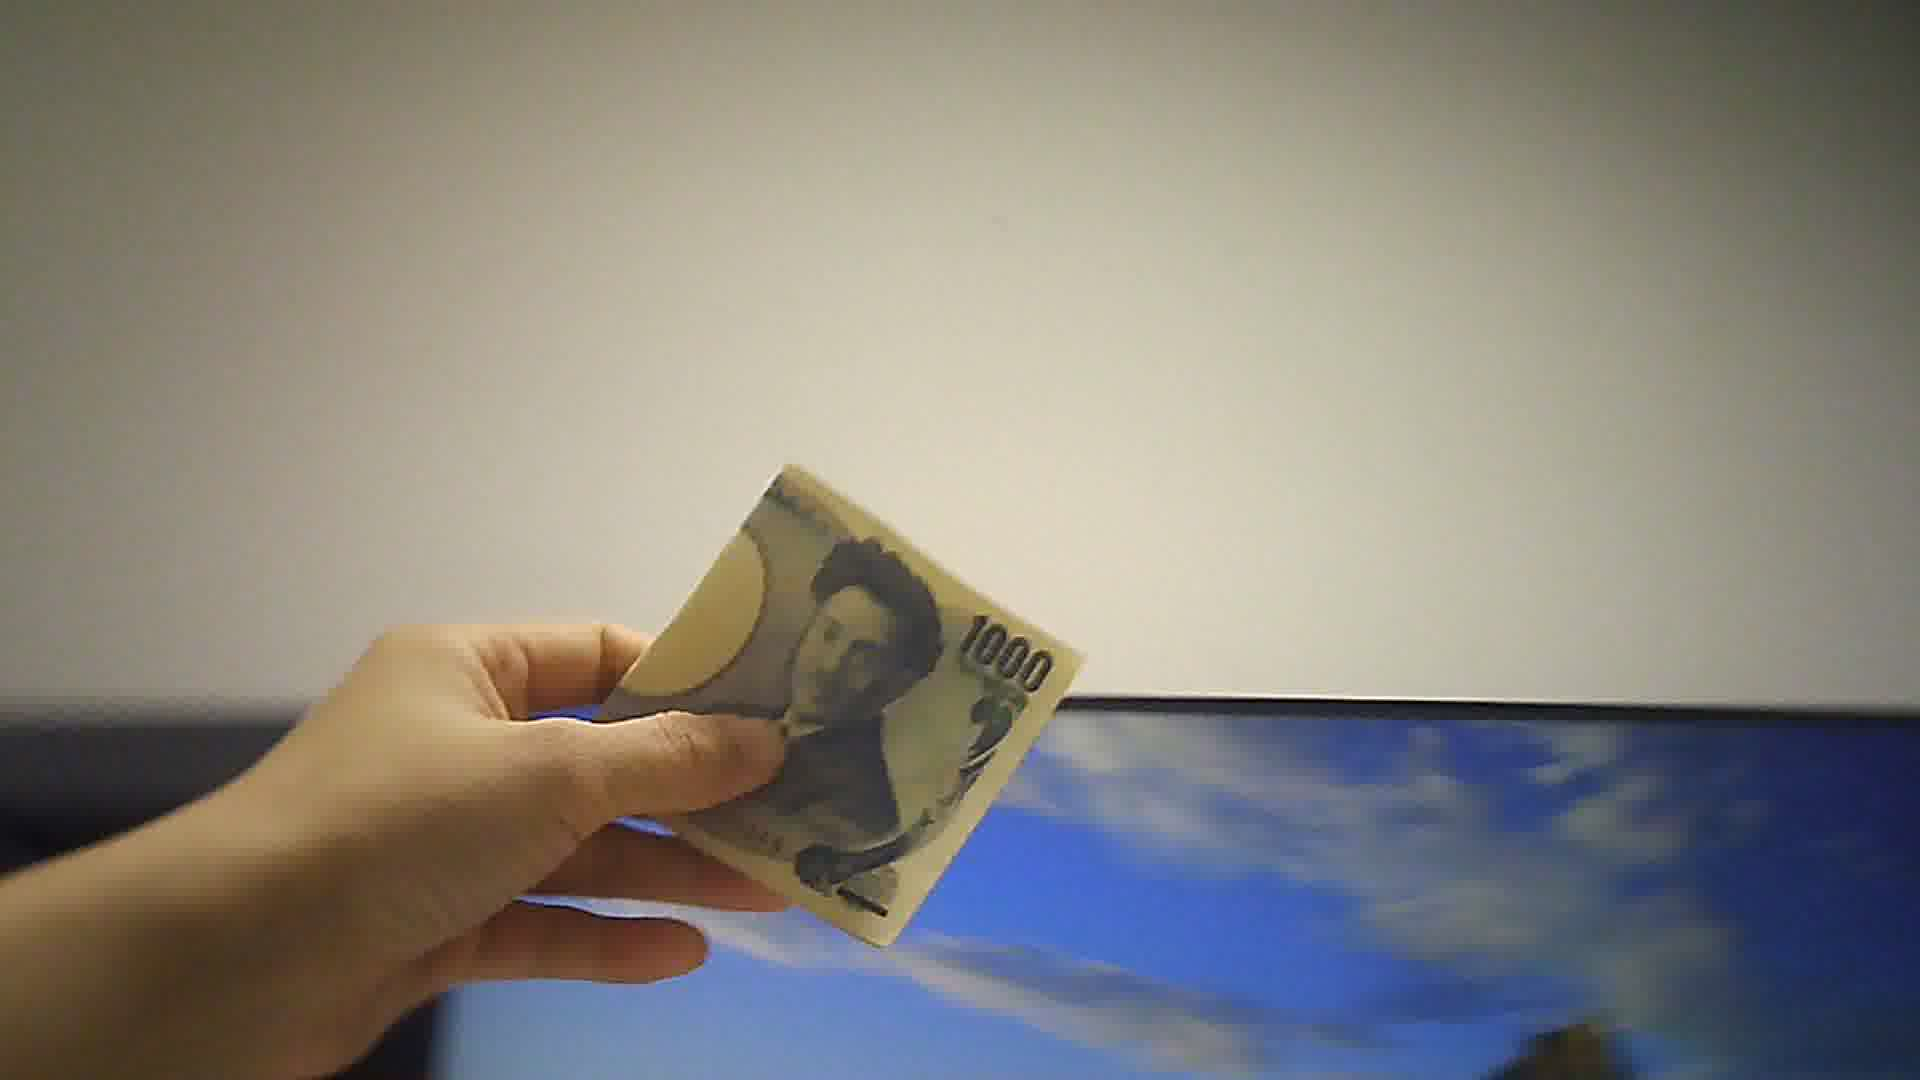1,000 Yen: (572, 447, 1083, 927)
